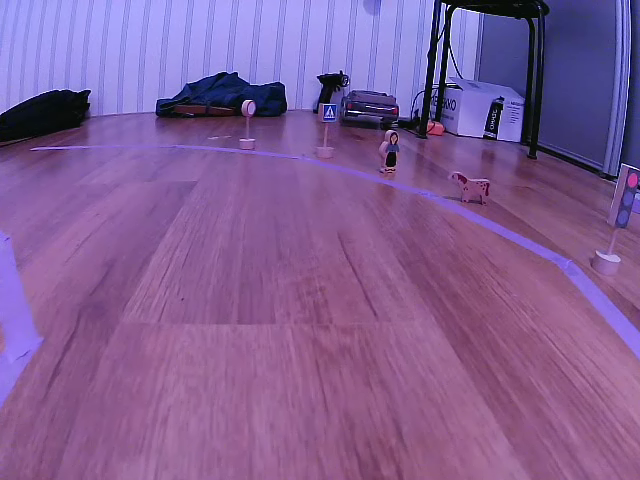mens: (380, 128, 401, 176)
paard: (445, 169, 492, 207)
roodlicht: (613, 161, 640, 232)
zebrapad: (319, 103, 338, 122)
